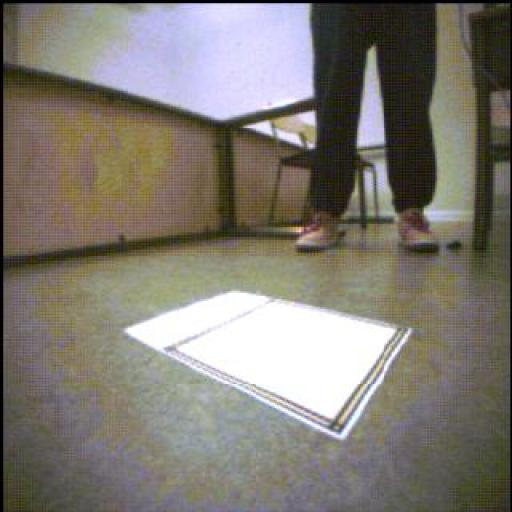Pad: (128, 293, 413, 440)
